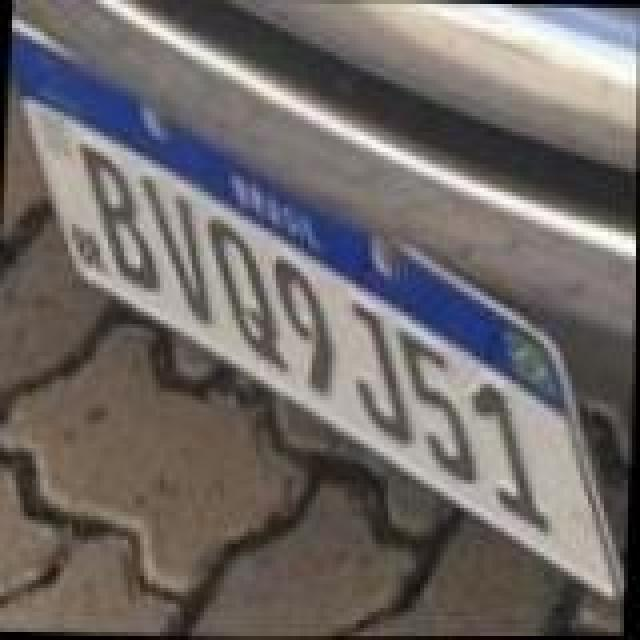1: (464, 376, 556, 532)
5: (394, 322, 482, 482)
9: (264, 254, 336, 398)
B: (72, 138, 164, 294)
J: (340, 292, 416, 444)
Q: (198, 214, 290, 378)
V: (134, 172, 218, 328)
